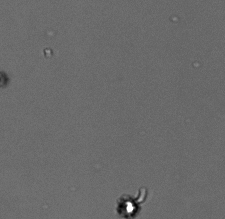Dead Cell: (1, 70, 7, 89)
Living Cell: (116, 193, 141, 216)
